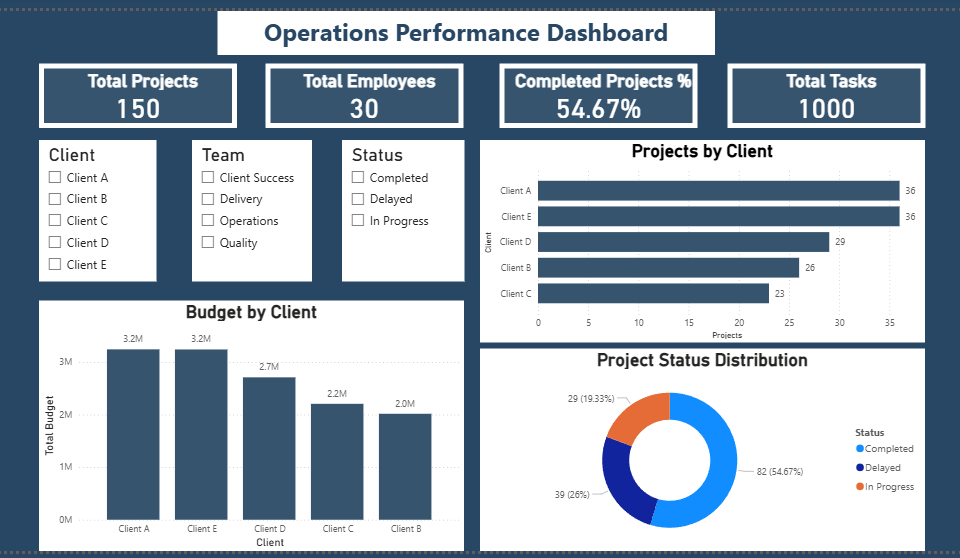

This screenshot's page, from the dashboard's own definition file:
{"tool":"powerbi","page":{"name":"Operations Overview Dashboard","canvas":[1280,720],"ordinal":0},"visuals":[{"type":"card","title":"Total Tasks","fields":{"Values":["Tasks3.Total Task"]},"box":[969.9,69.6,263.9,85.8],"z":0},{"type":"donutChart","title":"Project Status Distribution","fields":{"Category":["Project.Status"],"Y":["CountNonNull(Project.Project ID)"]},"box":[640,450,593.3,270],"z":1000},{"type":"clusteredBarChart","title":"Projects by Client","fields":{"Category":["Project.Client"],"Y":["CountNonNull(Project.Project ID)"]},"box":[640,171.7,593.3,270],"z":2000},{"type":"slicer","fields":{"Values":["Project.Client"]},"box":[51.7,171.7,156.7,188.3],"z":3000},{"type":"slicer","fields":{"Values":["Employees1.Team"]},"box":[256.7,171.7,160,188.3],"z":4000},{"type":"slicer","fields":{"Values":["Project.Status"]},"box":[455,171.7,163.3,188.3],"z":5000},{"type":"clusteredColumnChart","title":"Budget by Client","fields":{"Category":["Project.Client"],"Y":["Project.Total Budget"]},"box":[51.7,385,566.7,335],"z":6000},{"type":"card","title":"Completed Projects %","fields":{"Values":["Project.Completed Project %"]},"box":[665.5,69.6,263.9,85.8],"z":7000},{"type":"card","title":"Total Employees","fields":{"Values":["Employees1.Total Employees"]},"box":[354.6,69.6,263.9,85.8],"z":8000},{"type":"card","title":"Total Projects","fields":{"Values":["Project.Total Project"]},"box":[51.8,69.6,263.9,85.8],"z":9000},{"type":"textbox","box":[290,0,663.3,58.3],"z":10000}]}

Visuals, with their boxes in screenshot pixels (x1, y1, x2, y2):
"Total Tasks" card: detection(722, 64, 918, 127)
"Project Status Distribution" donutChart: detection(478, 345, 917, 545)
"Projects by Client" clusteredBarChart: detection(478, 139, 917, 339)
slicer - Project.Client: detection(43, 139, 159, 279)
slicer - Employees1.Team: detection(195, 139, 313, 279)
slicer - Project.Status: detection(342, 139, 462, 279)
"Budget by Client" clusteredColumnChart: detection(43, 297, 462, 545)
"Completed Projects %" card: detection(497, 64, 692, 127)
"Total Employees" card: detection(267, 64, 462, 127)
"Total Projects" card: detection(43, 64, 239, 127)
textbox: detection(219, 12, 710, 56)
